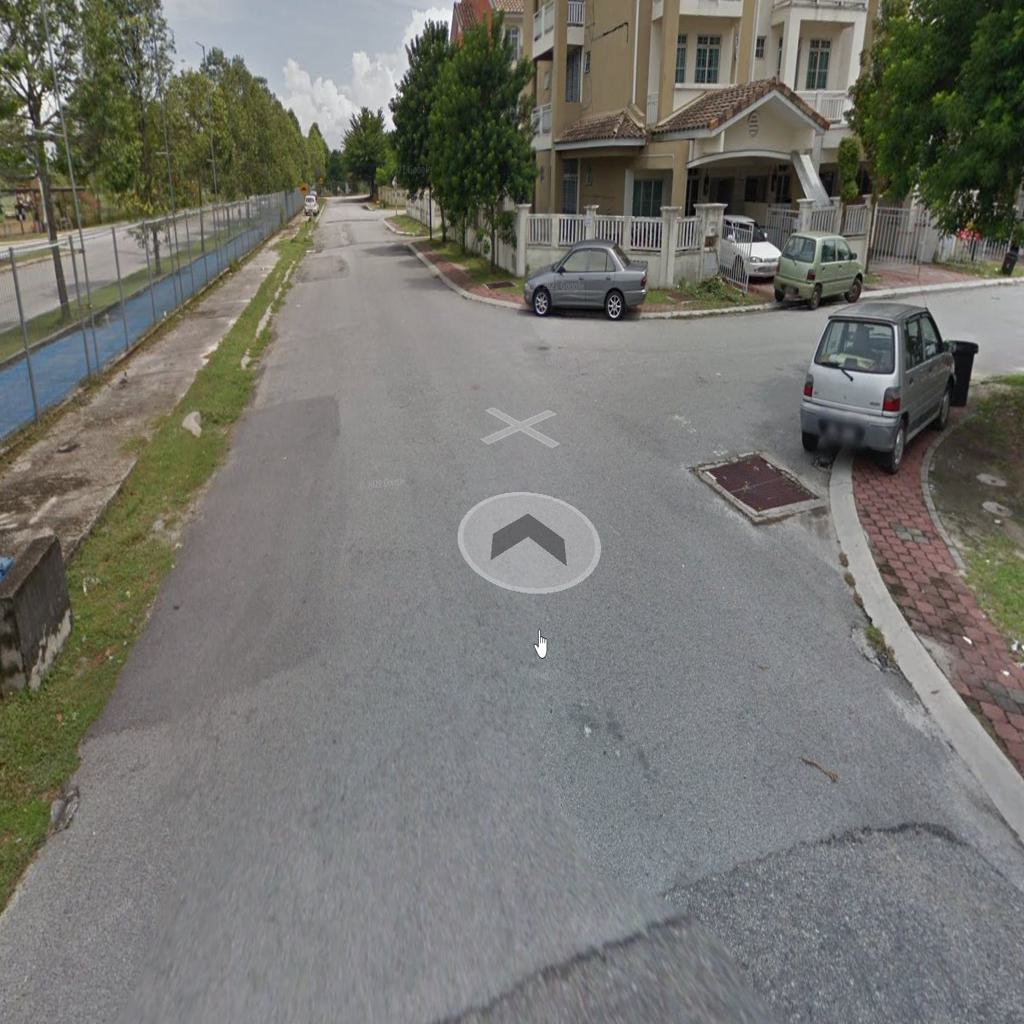Junction: (452, 268, 1001, 641)
